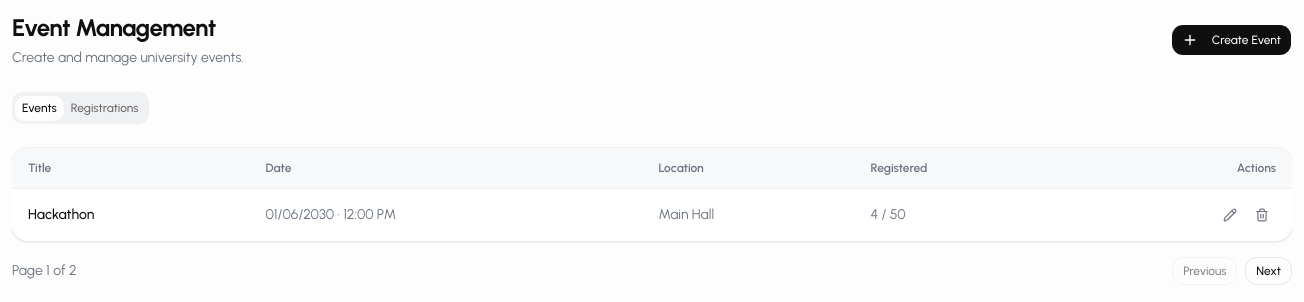
Scenario: admin events route › fetches the next page when pagination controls are used
Step 1. Click the button "Next" → point(1269, 271), box [1245, 257, 1292, 285]
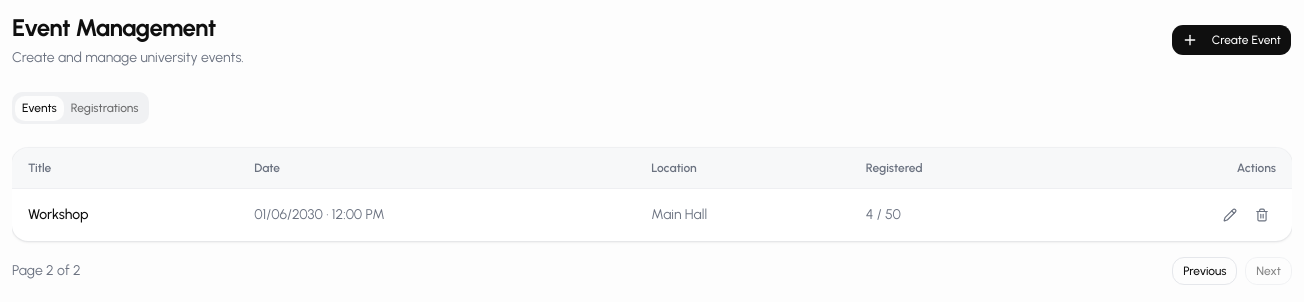
Now the text "Workshop" is shown, box [12, 188, 238, 241]
